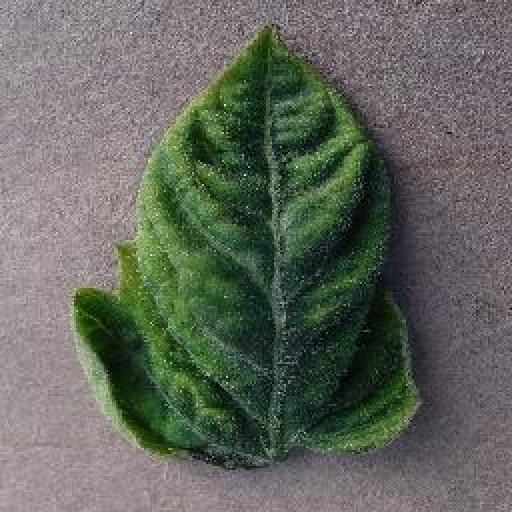disease_tomato: (75, 23, 424, 472)
